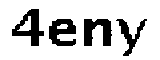4: (11, 5, 48, 54)
e: (49, 13, 79, 53)
n: (83, 16, 116, 54)
y: (115, 14, 146, 60)
